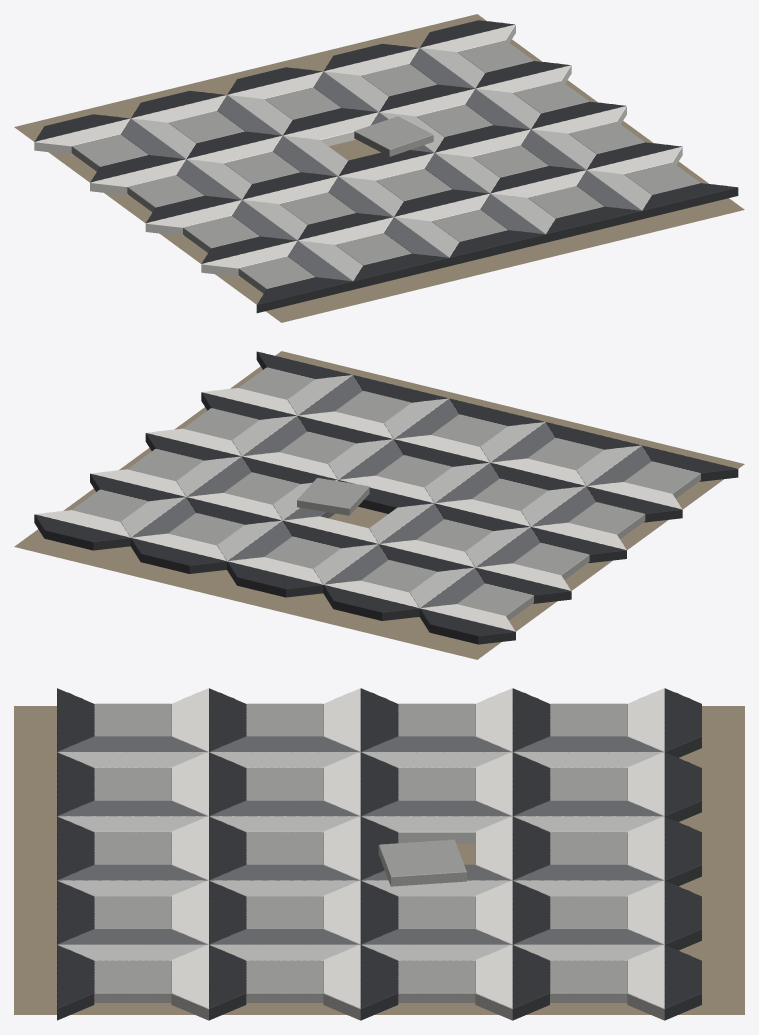
Rendered from terilgan.glb.
The picture shows the model from 3 angles, top to bottom: view 1: azimuth 30°, elevation 25°; view 2: azimuth 150°, elevation 25°; view 3: azimuth 270°, elevation 25°; orthographic projection. The views are drawn at different scales.
Parts seen in each view (by area): view 1: qum, t.048, t.018, t.001, t.039, t.060, t.081, t.008, t, t.012, t.004, t.017 (+85 smaller); view 2: qum, t.048, t.096, t.016, t.058, t.079, t.037, t.004, t.008, t, t.012, t.074 (+85 smaller); view 3: qum, t.048, t.088, t.092, t.080, t.084, t.051, t, t.004, t.008, t.012, t.022 (+86 smaller).
Part boxes in pixels (bbox=[...]): qum: bbox=[14, 14, 744, 322]; t.048: bbox=[354, 116, 433, 156]; t.018: bbox=[353, 253, 449, 289]; t.001: bbox=[256, 277, 352, 313]; t.039: bbox=[449, 230, 545, 266]; t.060: bbox=[545, 206, 641, 242]; t.081: bbox=[642, 183, 738, 219]; t.008: bbox=[127, 175, 203, 212]; t: bbox=[238, 256, 314, 293]; t.012: bbox=[71, 134, 147, 171]; t.004: bbox=[183, 216, 259, 252]; t.017: bbox=[335, 233, 411, 265]; qum: bbox=[14, 351, 744, 659]; t.048: bbox=[297, 478, 369, 515]; t.096: bbox=[34, 514, 130, 550]; t.016: bbox=[419, 608, 515, 644]; t.058: bbox=[227, 561, 323, 597]; t.079: bbox=[130, 538, 226, 573]; t.037: bbox=[323, 585, 419, 620]; t.004: bbox=[569, 502, 645, 539]; t.008: bbox=[513, 543, 589, 579]; t: bbox=[624, 461, 700, 498]; t.012: bbox=[457, 583, 533, 620]; t.074: bbox=[168, 513, 244, 545]; qum: bbox=[14, 706, 744, 1014]; t.048: bbox=[378, 839, 466, 886]; t.088: bbox=[398, 960, 475, 1002]; t.092: bbox=[550, 960, 627, 1002]; t.080: bbox=[94, 960, 171, 1002]; t.084: bbox=[246, 960, 323, 1002]; t.051: bbox=[361, 816, 511, 843]; t: bbox=[94, 703, 171, 736]; t.004: bbox=[246, 703, 323, 736]; t.008: bbox=[398, 703, 475, 736]; t.012: bbox=[550, 703, 627, 736]; t.022: bbox=[246, 767, 323, 800].
Size of the model in its own units: 1.72 by 0.057 by 1.66.
